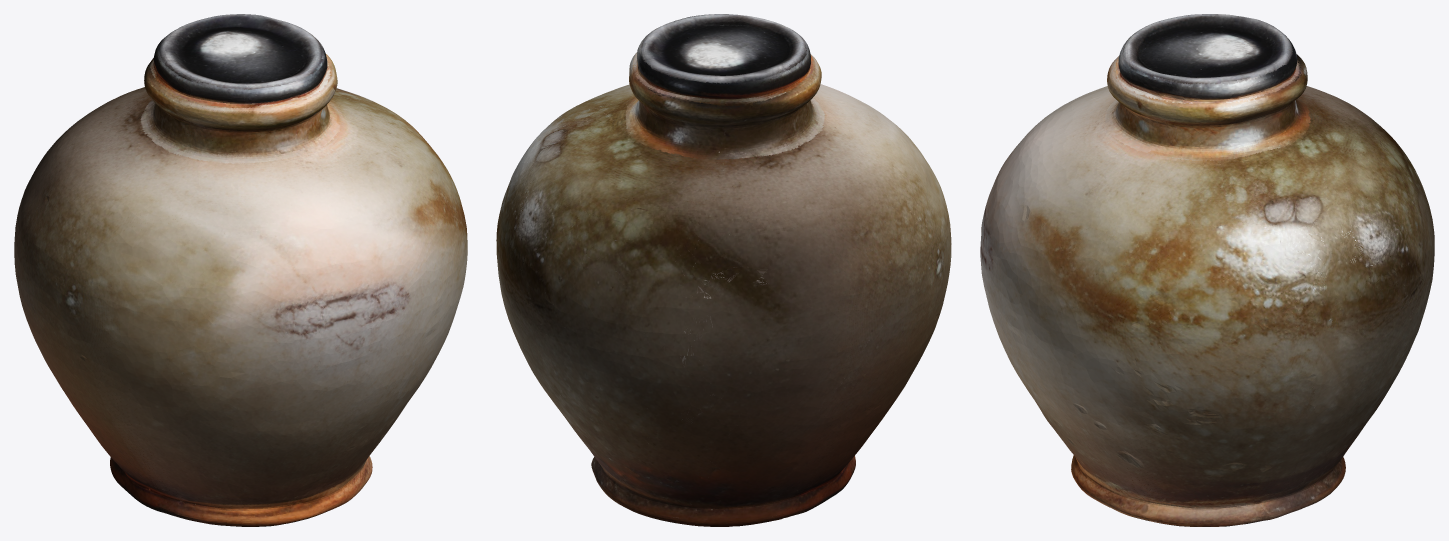
File: traveler_env_coast_hoshi_storage_jar_00001_.glb
The picture shows the model from 3 angles, left to right: view 1: azimuth 30°, elevation 25°; view 2: azimuth 150°, elevation 25°; view 3: azimuth 270°, elevation 25°; orthographic projection.
Visible parts, largest first — view 1: temp_mesh.ply; view 2: temp_mesh.ply; view 3: temp_mesh.ply.
Part boxes in pixels (<box>): temp_mesh.ply: <box>14,14,467,526</box>; temp_mesh.ply: <box>496,14,951,526</box>; temp_mesh.ply: <box>980,14,1434,526</box>.
Size of the model in its own units: 1.52 by 1.58 by 1.52.
Materials: 1 (1 with a texture image).
